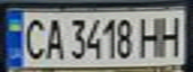1: (100, 16, 121, 58)
3: (66, 16, 87, 60)
4: (84, 16, 103, 60)
8: (115, 16, 139, 60)
A: (42, 15, 66, 61)
C: (18, 15, 48, 61)
H: (154, 12, 187, 57), (136, 14, 166, 58)
